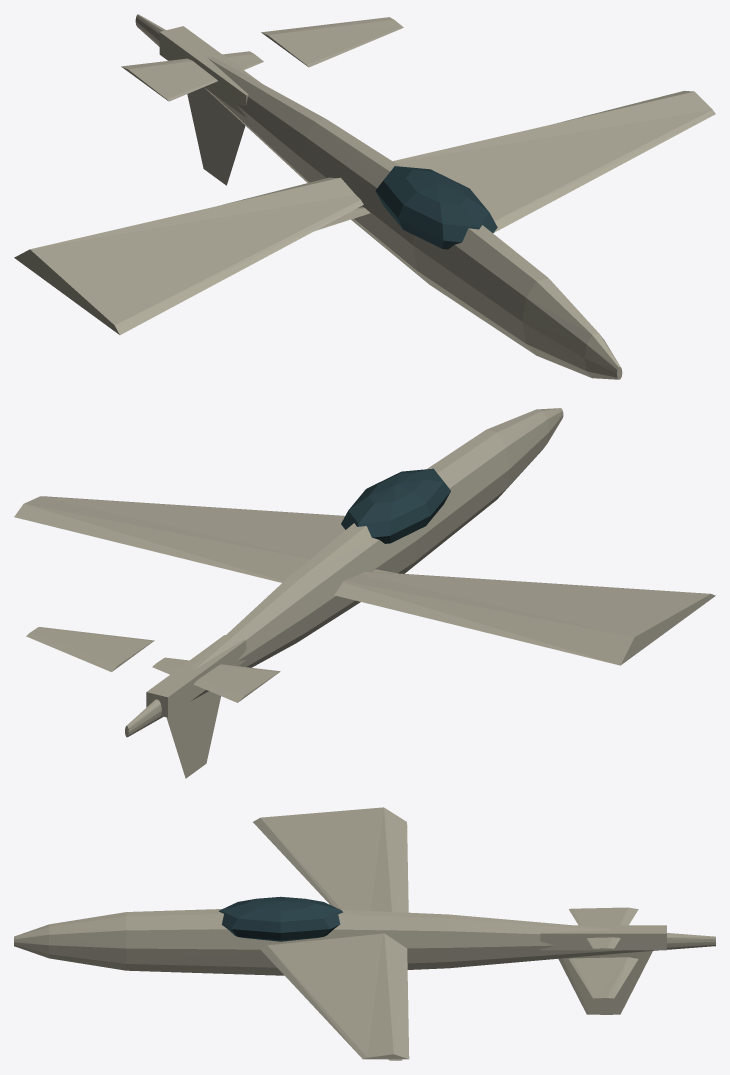
File: mig23.glb
3 renders of one model, top to bottom at view 1: azimuth 30°, elevation 25°; view 2: azimuth 150°, elevation 25°; view 3: azimuth 270°, elevation 25°, orthographic. The views are drawn at different scales.
Visible parts, largest first — view 1: Fuselage, Wing_L, Wing_R, Cockpit, Elevator_R, Rudder, TailBoom, Elevator_L; view 2: Fuselage, Wing_L, Wing_R, Cockpit, Elevator_R, Rudder, TailBoom, Elevator_L; view 3: Fuselage, Wing_R, Wing_L, Cockpit, TailBoom, Rudder, Elevator_R, Elevator_L.
Part boxes in pixels (box(x1,y1,x2,y2)): Fuselage: box(135, 14, 622, 379); Wing_L: box(14, 177, 363, 334); Wing_R: box(393, 90, 715, 232); Cockpit: box(375, 166, 497, 249); Elevator_R: box(261, 17, 403, 67); Rudder: box(187, 87, 245, 185); TailBoom: box(159, 26, 261, 117); Elevator_L: box(121, 51, 263, 101); Fuselage: box(125, 408, 563, 737); Wing_L: box(334, 571, 715, 665); Wing_R: box(14, 496, 345, 582); Cockpit: box(341, 468, 450, 543); Elevator_R: box(26, 627, 154, 671); Rudder: box(166, 691, 220, 778); TailBoom: box(146, 635, 246, 717); Elevator_L: box(152, 657, 280, 702); Fuselage: box(14, 909, 715, 975); Wing_R: box(260, 933, 409, 1059); Wing_L: box(253, 807, 408, 912); Cockpit: box(219, 896, 342, 941); TailBoom: box(540, 925, 666, 950); Rudder: box(558, 951, 652, 1014); Elevator_R: box(569, 957, 638, 998); Elevator_L: box(569, 907, 638, 948).
Size of the model in its own units: 13.44 by 2.98 by 16.7.
